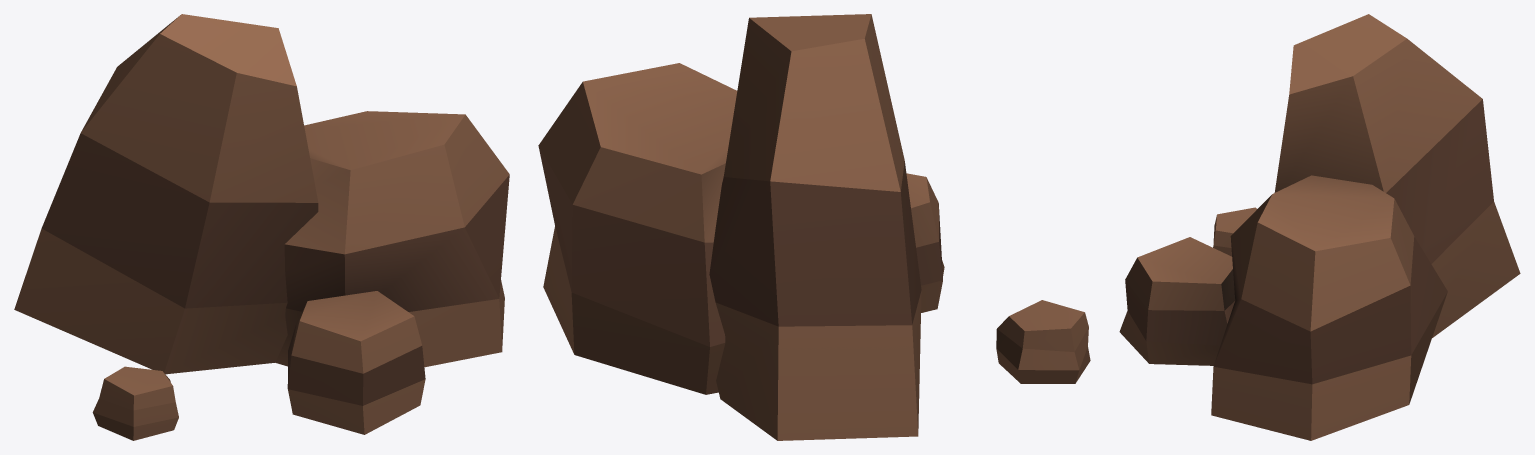
The model's file is rocher_c.glb.
3 renders of one model, left to right at view 1: azimuth 30°, elevation 25°; view 2: azimuth 150°, elevation 25°; view 3: azimuth 270°, elevation 25°, orthographic. The views are drawn at different scales.
Parts seen in each view (by area): view 1: rocher_c; view 2: rocher_c; view 3: rocher_c.
Boxes of the visible parts, x1,y1,x2,y2 form: rocher_c: (14, 14, 509, 440); rocher_c: (538, 14, 1090, 440); rocher_c: (1119, 14, 1520, 440).
Size of the model in its own units: 0.8429 by 0.5736 by 0.7237.
